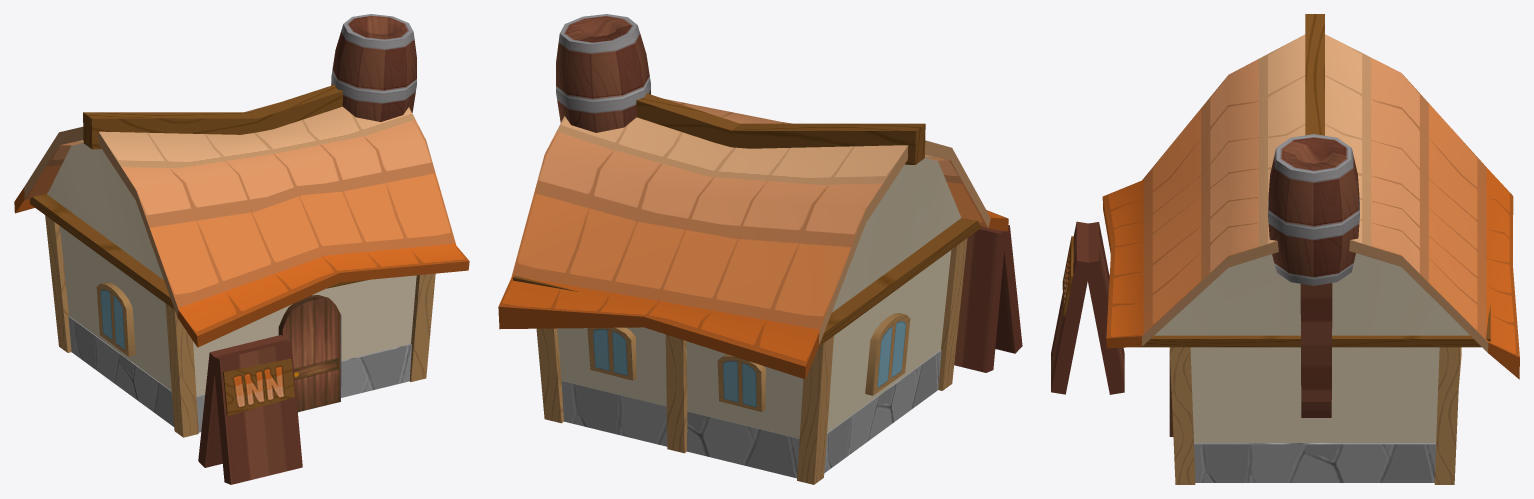
Rendered from building_inn_lv1.FBX.
3 views of the same model, side by side, from view 1: azimuth 30°, elevation 25°; view 2: azimuth 150°, elevation 25°; view 3: azimuth 270°, elevation 25° (orthographic). The views are drawn at different scales.
Visible parts, largest first — view 1: building_inn_roof_lv1, building_inn_lv1, building_inn_main_lv1, building_inn_etc_lv1; view 2: building_inn_roof_lv1, building_inn_lv1, building_inn_main_lv1, building_inn_etc_lv1; view 3: building_inn_roof_lv1, building_inn_lv1, building_inn_main_lv1, building_inn_etc_lv1.
Part boxes in pixels (x1,y1,x2,y2): building_inn_roof_lv1: (14,102,469,347); building_inn_lv1: (30,14,435,437); building_inn_main_lv1: (47,142,416,395); building_inn_etc_lv1: (198,335,302,484); building_inn_roof_lv1: (498,99,1008,379); building_inn_lv1: (512,14,982,484); building_inn_main_lv1: (557,157,961,438); building_inn_etc_lv1: (954,225,1022,372); building_inn_roof_lv1: (1102,34,1519,379); building_inn_lv1: (1133,14,1490,484); building_inn_main_lv1: (1154,253,1469,442); building_inn_etc_lv1: (1051,221,1124,394).
Bounding box in the file's own units: 311 × 286 × 347.
